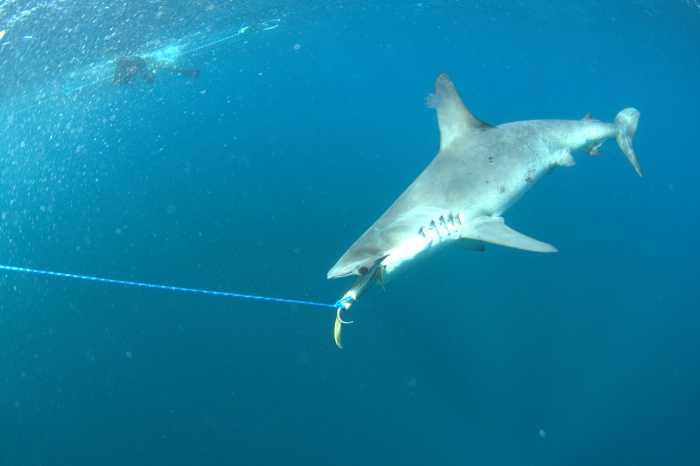Hammer: (296, 60, 658, 311)
